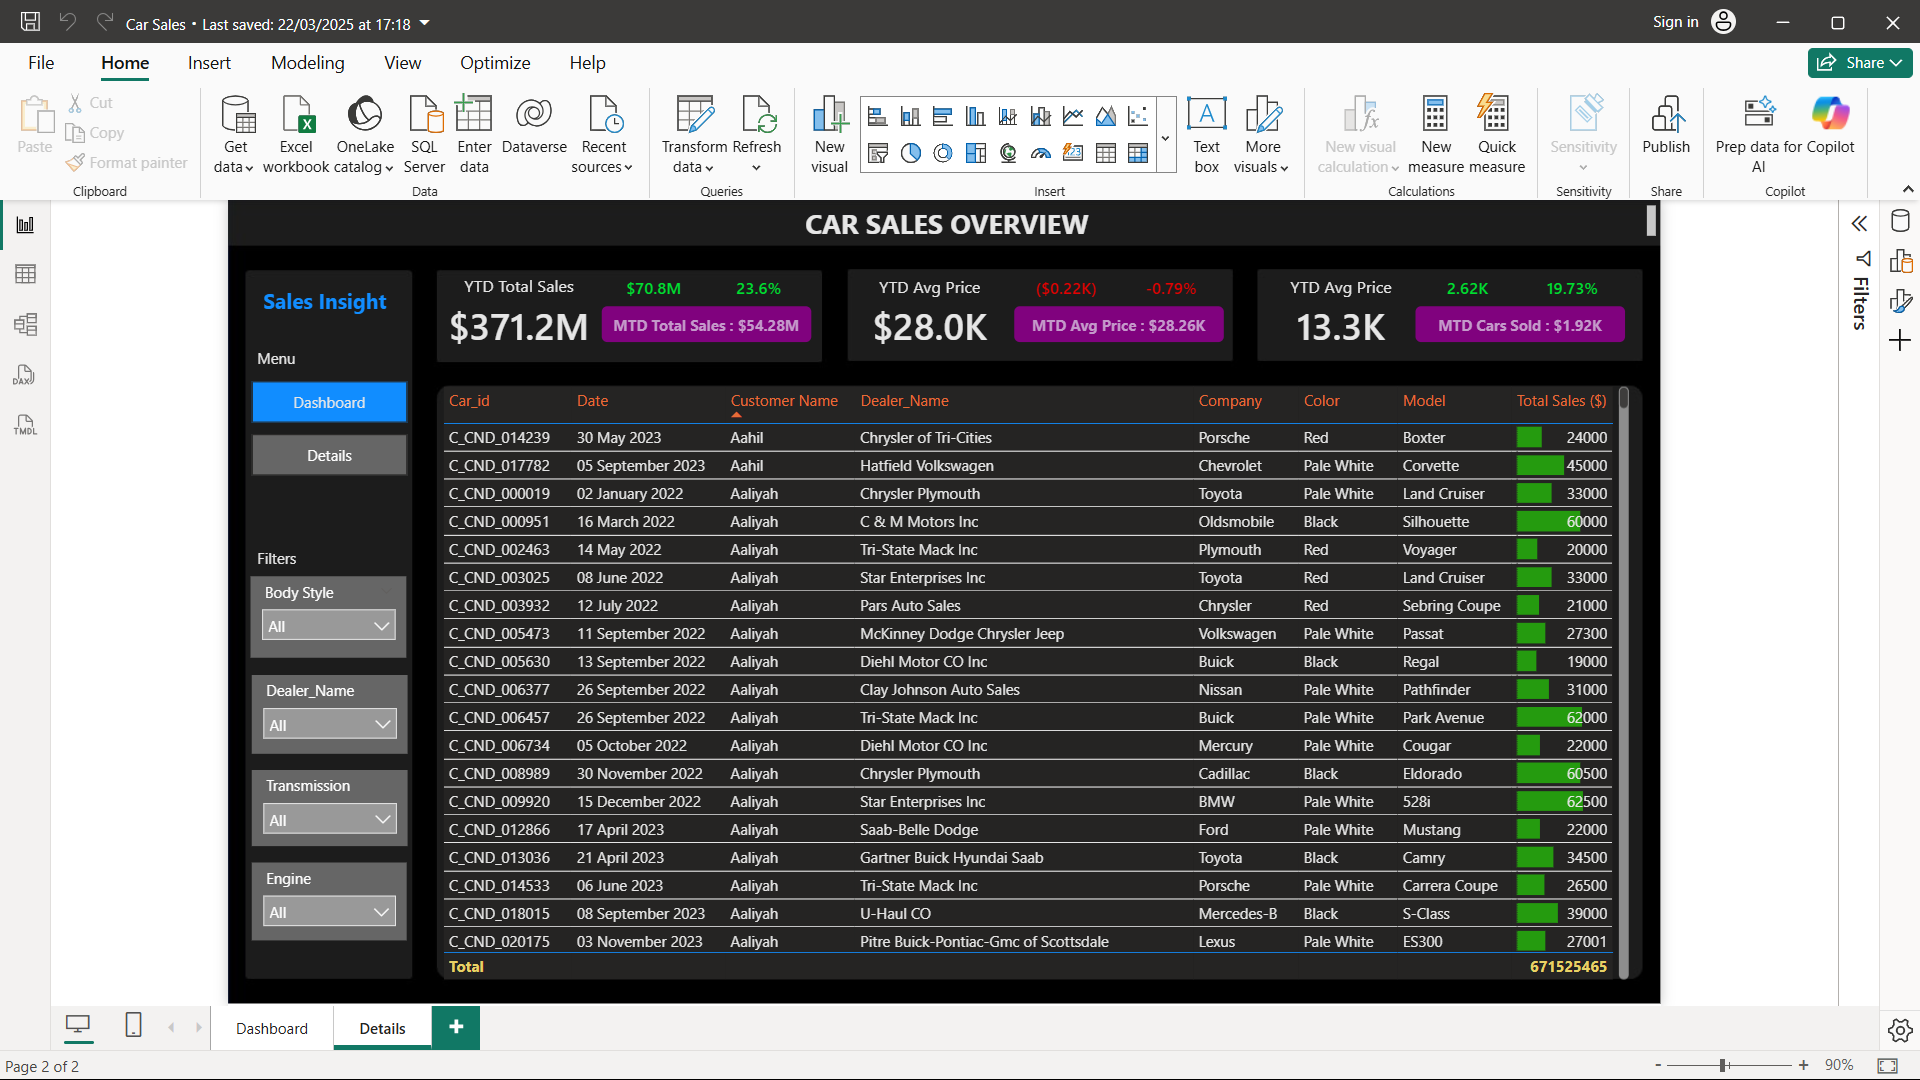

What the dashboard file says about the page in this screenshot:
{"tool":"powerbi","page":{"name":"Details","canvas":[1280,720],"ordinal":1},"visuals":[{"type":"card","title":"YTD Total Sales","fields":{"Values":["car_data.YTD Total Sales"]},"box":[186.5,65.9,147.4,72.6],"z":0},{"type":"card","fields":{"Values":["car_data.Sales Difference"]},"box":[334.4,67.1,93.5,27.6],"z":1000},{"type":"card","fields":{"Values":["car_data.YoY Sales Growth"]},"box":[427.9,67.1,93.5,27.6],"z":2000},{"type":"card","fields":{"Values":["car_data.MTD KPI"]},"box":[334.4,94.7,187,32.4],"z":3000},{"type":"card","title":"YTD Avg Price","fields":{"Values":["car_data.YTD Avg Price"]},"box":[560.9,67.1,133,71.9],"z":4000},{"type":"card","fields":{"Values":["car_data.Avg Price Difference"]},"box":[702.3,67.1,93.5,27.6],"z":5000},{"type":"card","fields":{"Values":["car_data.YoY Avg Price Growth"]},"box":[795.8,67.1,93.5,27.6],"z":6000},{"type":"card","fields":{"Values":["car_data.MTD Avg Price KPI"]},"box":[702.3,94.7,187,32.4],"z":7000},{"type":"card","title":"YTD Avg Price","fields":{"Values":["car_data.YTD Cars Sold"]},"box":[927.6,67.1,133,71.9],"z":8000},{"type":"card","fields":{"Values":["car_data.Cars Sold Difference"]},"box":[1060.7,67.1,93.5,27.6],"z":9000},{"type":"card","fields":{"Values":["car_data.YoY Car Sold Growth"]},"box":[1154.2,67.1,93.5,27.6],"z":10000},{"type":"card","fields":{"Values":["car_data.MTD Cars Sold KPI"]},"box":[1060.7,94.7,187,32.4],"z":11000},{"type":"textbox","box":[12,0,1268,39.6],"z":12000},{"type":"slicer","fields":{"Values":["car_data.Body Style"]},"box":[20.1,336.1,139.6,72.6],"z":13000},{"type":"slicer","fields":{"Values":["car_data.Dealer_Name"]},"box":[21.2,424.3,139.6,70.3],"z":14000},{"type":"slicer","fields":{"Values":["car_data.Transmission"]},"box":[21.2,509.2,139.6,68.1],"z":15000},{"type":"slicer","fields":{"Values":["car_data.Engine"]},"box":[21.2,591.8,138.5,69.2],"z":16000},{"type":"textbox","box":[21.2,306,61.4,30.1],"z":17000},{"type":"tableEx","fields":{"Values":["car_data.Car_id","car_data.Date","car_data.Customer Name","car_data.Dealer_Name","car_data.Company","car_data.Color","car_data.Model","Sum(car_data.Price ($))"]},"box":[186.5,161.9,1069.7,539.3],"z":18000},{"type":"pageNavigator","box":[21.2,161.9,139.6,86],"z":19000},{"type":"textbox","box":[21.2,127.3,61.4,30.1],"z":20000},{"type":"textbox","box":[12.3,72.6,148.5,38],"z":21000}]}

Visuals, with their boxes on the page's 1280x720 design canvas (x1, y1, x2, y2). These are canvas units, not pixel positions in the 1920x1080 screenshot, which may show the page scaled, cropped or inside an application window:
"YTD Total Sales" card: select_region(186, 66, 334, 138)
card - car_data.Sales Difference: select_region(334, 67, 428, 95)
card - car_data.YoY Sales Growth: select_region(428, 67, 521, 95)
card - car_data.MTD KPI: select_region(334, 95, 521, 127)
"YTD Avg Price" card: select_region(561, 67, 694, 139)
card - car_data.Avg Price Difference: select_region(702, 67, 796, 95)
card - car_data.YoY Avg Price Growth: select_region(796, 67, 889, 95)
card - car_data.MTD Avg Price KPI: select_region(702, 95, 889, 127)
"YTD Avg Price" card: select_region(928, 67, 1061, 139)
card - car_data.Cars Sold Difference: select_region(1061, 67, 1154, 95)
card - car_data.YoY Car Sold Growth: select_region(1154, 67, 1248, 95)
card - car_data.MTD Cars Sold KPI: select_region(1061, 95, 1248, 127)
textbox: select_region(12, 0, 1280, 40)
slicer - car_data.Body Style: select_region(20, 336, 160, 409)
slicer - car_data.Dealer_Name: select_region(21, 424, 161, 495)
slicer - car_data.Transmission: select_region(21, 509, 161, 577)
slicer - car_data.Engine: select_region(21, 592, 160, 661)
textbox: select_region(21, 306, 83, 336)
tableEx - car_data.Car_id x car_data.Date: select_region(186, 162, 1256, 701)
pageNavigator: select_region(21, 162, 161, 248)
textbox: select_region(21, 127, 83, 157)
textbox: select_region(12, 73, 161, 111)
